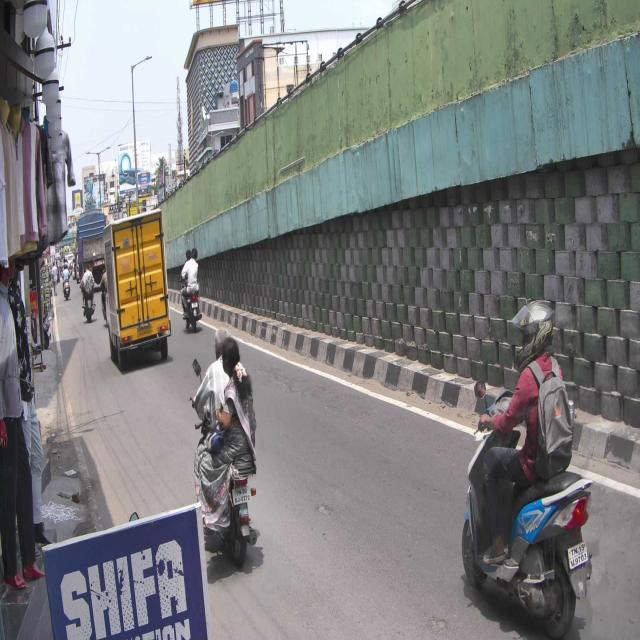double_rider: (190, 326, 260, 568)
single_rider: (460, 297, 593, 640)
